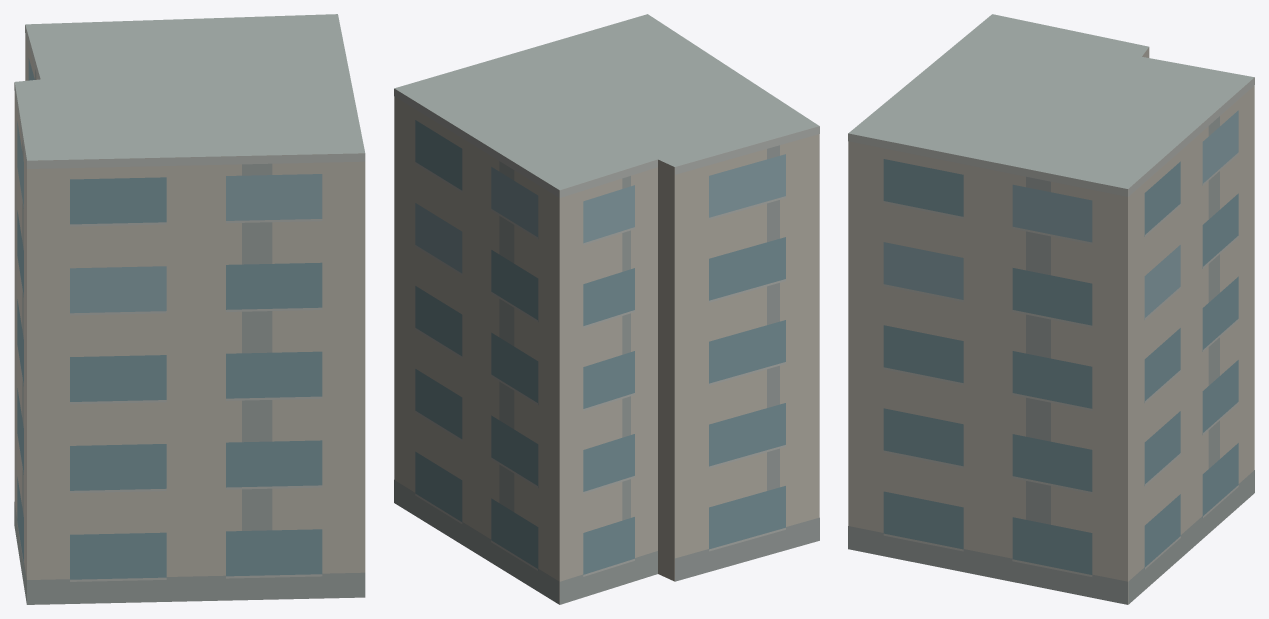
The model's file is survey-upis-32726197.glb.
3 views of the same model, side by side, from view 1: azimuth 30°, elevation 25°; view 2: azimuth 150°, elevation 25°; view 3: azimuth 270°, elevation 25° (orthographic). The views are drawn at different scales.
Visible parts, largest first — view 1: survey-upis-32726197.tmp; view 2: survey-upis-32726197.tmp; view 3: survey-upis-32726197.tmp.
Part boxes in pixels (x1,y1,x2,y2): survey-upis-32726197.tmp: [14, 14, 365, 604]; survey-upis-32726197.tmp: [394, 14, 819, 604]; survey-upis-32726197.tmp: [848, 14, 1254, 604].
Size of the model in its own units: 11.66 by 12.9 by 11.44.
